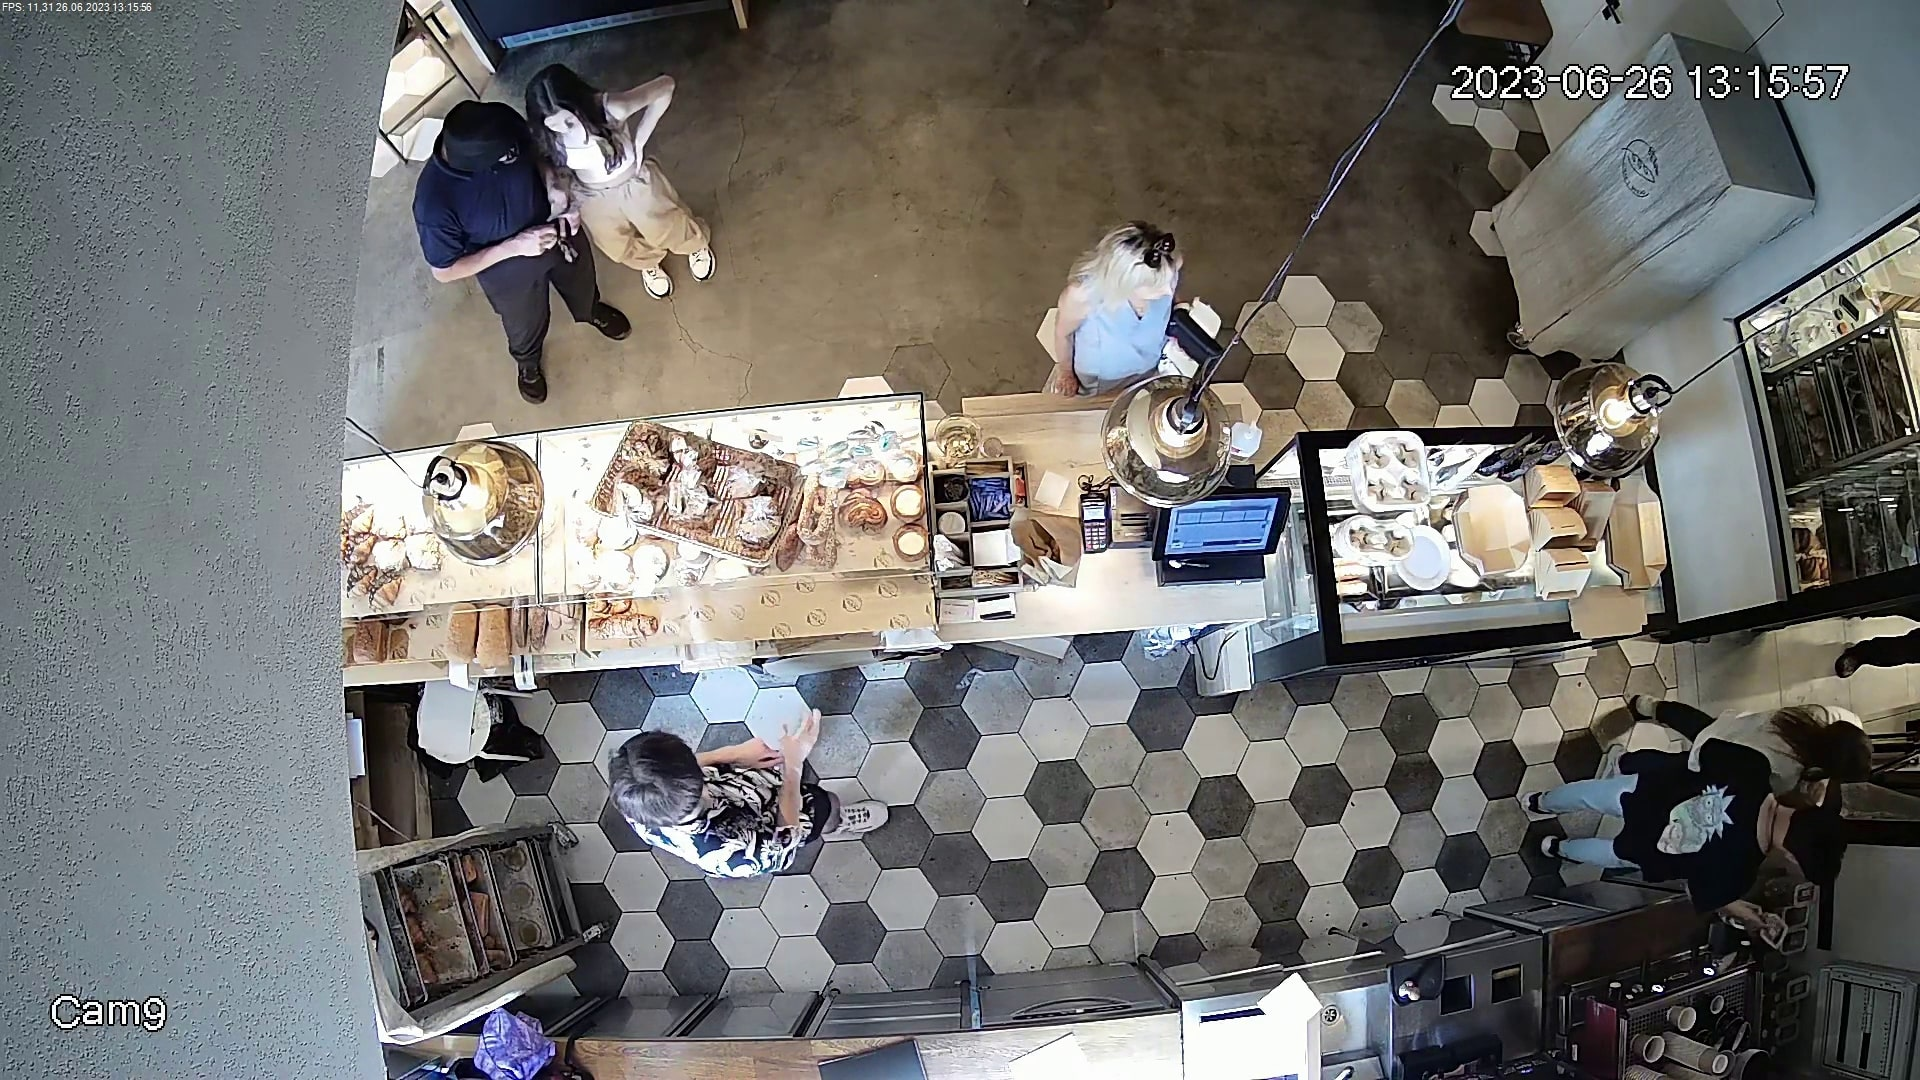pack: (1004, 504, 1084, 589)
person: (1517, 730, 1854, 901), (577, 720, 909, 877), (524, 70, 748, 301), (1027, 209, 1229, 398)
